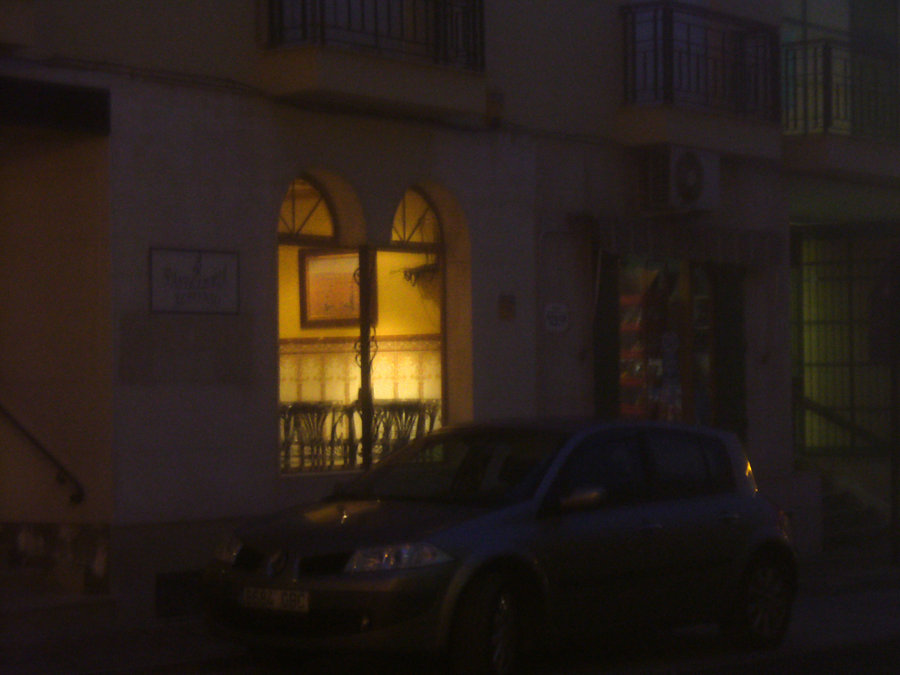car: (200, 407, 809, 672)
